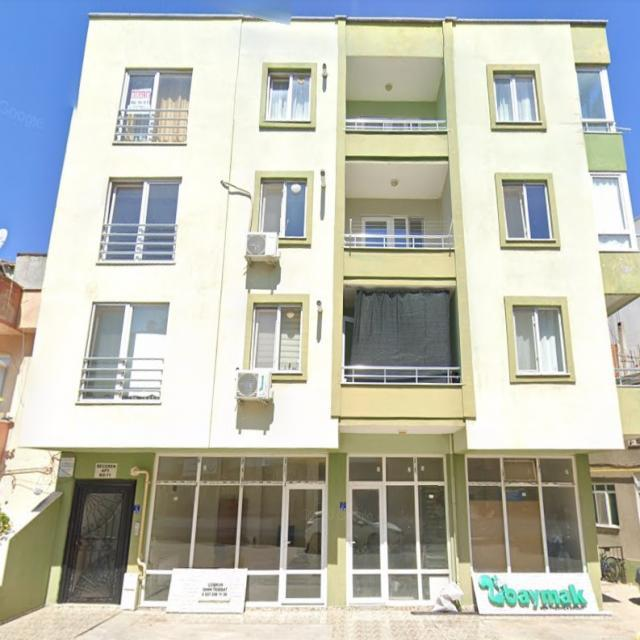Building: (17, 14, 640, 614)
